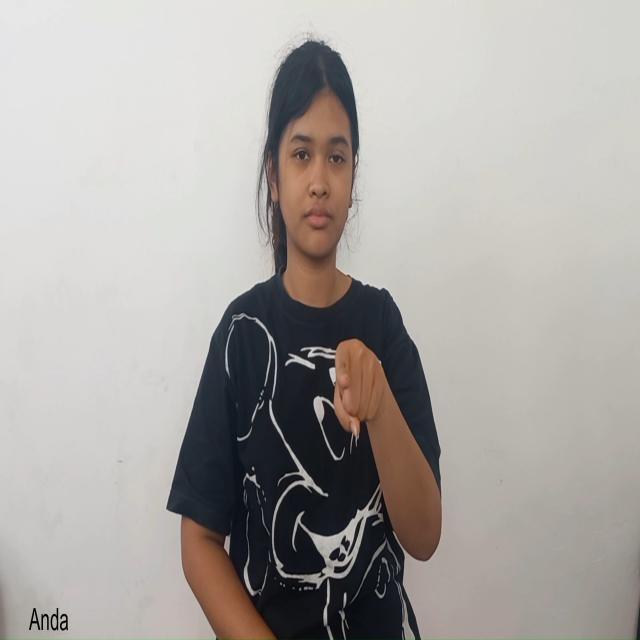Anda -BISINDO-: (302, 272, 425, 492)
